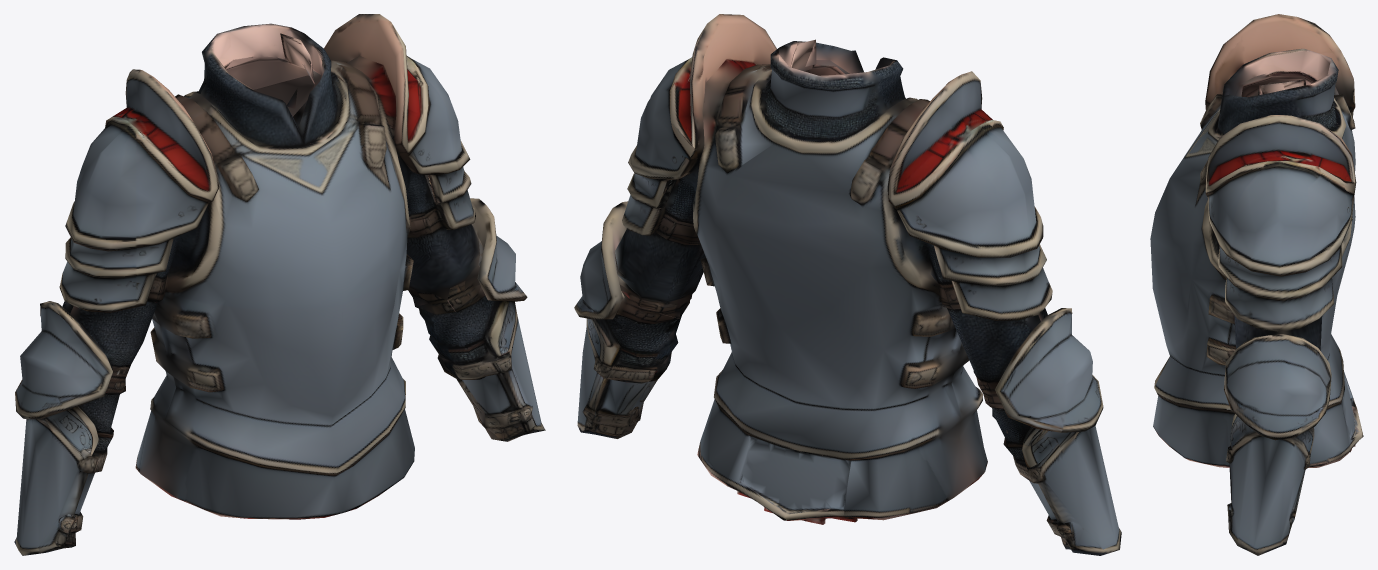
The model's file is DarkArmor.fbx.
3 views of the same model, side by side, from view 1: azimuth 30°, elevation 25°; view 2: azimuth 150°, elevation 25°; view 3: azimuth 270°, elevation 25° (orthographic). The views are drawn at different scales.
Visible parts, largest first — view 1: GriffinArmor; view 2: GriffinArmor; view 3: GriffinArmor.
Boxes of the visible parts, left/top/right/bottom form: GriffinArmor: left=14, top=14, right=545, bottom=555; GriffinArmor: left=574, top=14, right=1121, bottom=555; GriffinArmor: left=1150, top=14, right=1363, bottom=555.
Bounding box in the file's own units: 43.81 × 35.16 × 17.76.
1 material, 1 textured.
